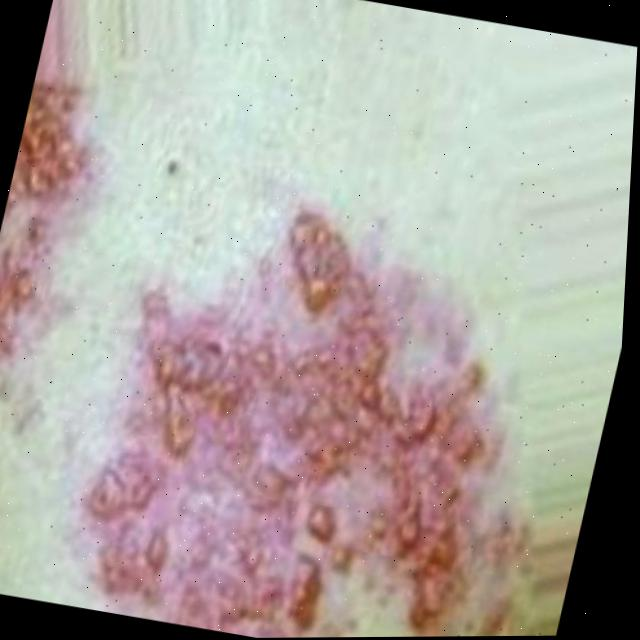Shingles: (54, 177, 603, 639), (0, 77, 124, 408)
